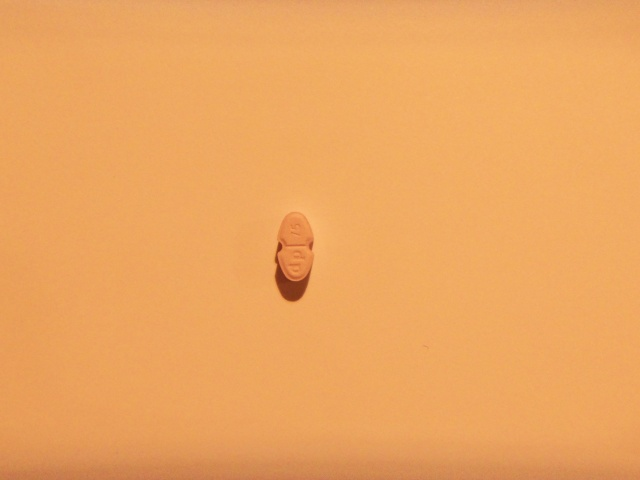5: (288, 222, 305, 230)
7: (285, 229, 304, 240)
P: (290, 248, 310, 261)
d: (283, 260, 306, 276)
|: (273, 240, 319, 251)
